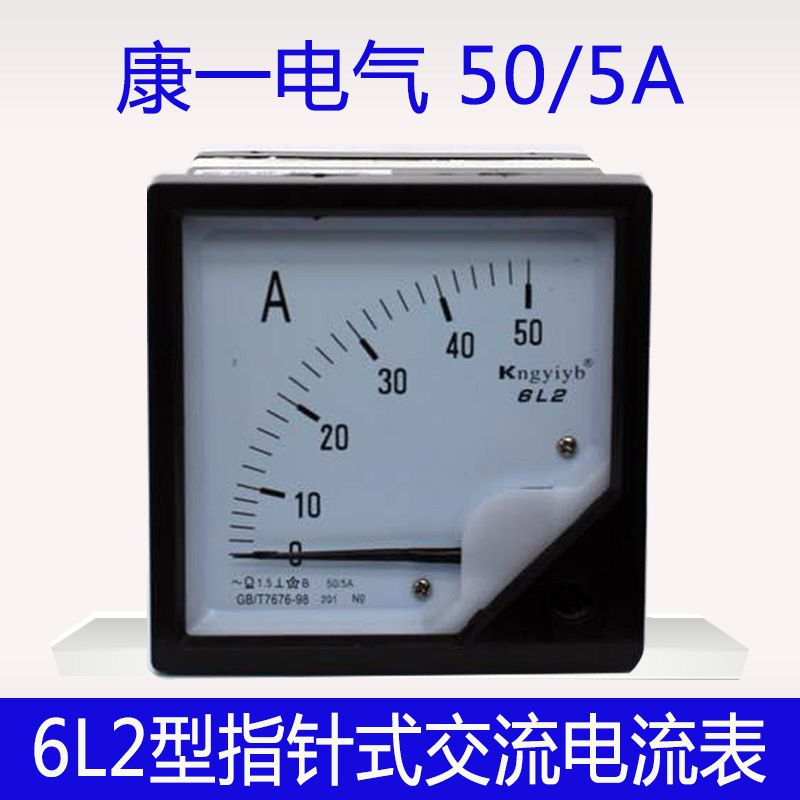pointer: (176, 207, 618, 640)
